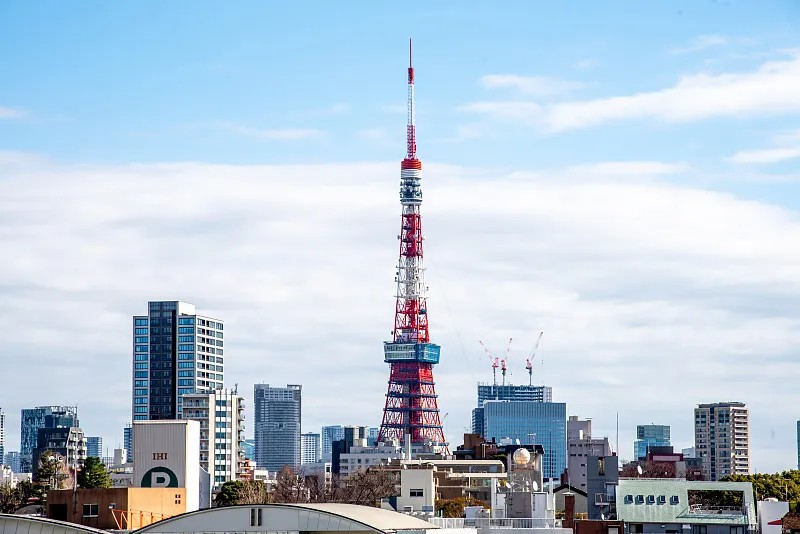Tokyo: (376, 36, 452, 456)
